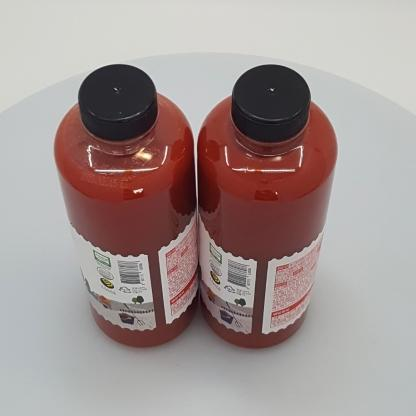-------------------900ML: (54, 63, 198, 348), (197, 63, 338, 349)
